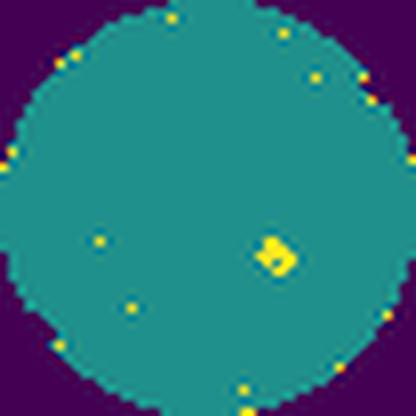Loc: (254, 232, 295, 285)
